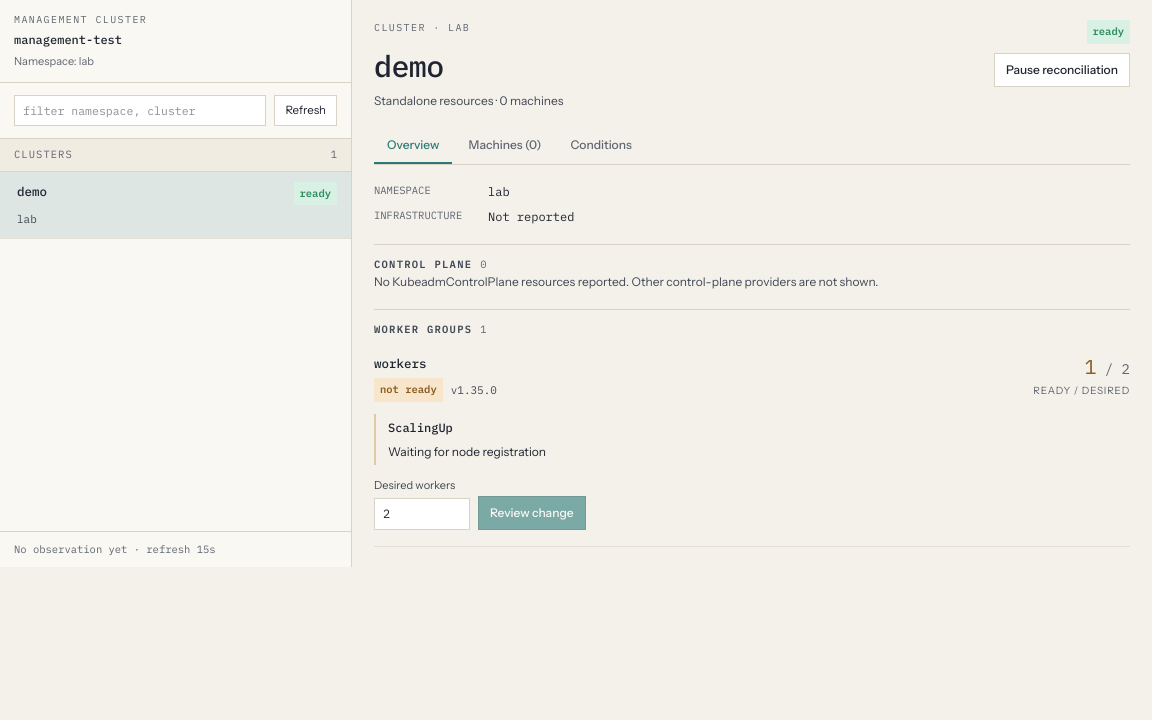
Cluster API workspace › keeps failures in the confirmation dialog for review
The image size is (1152, 720).
Click the button "Pause reconciliation": (1062,70) [994,52,1130,86]
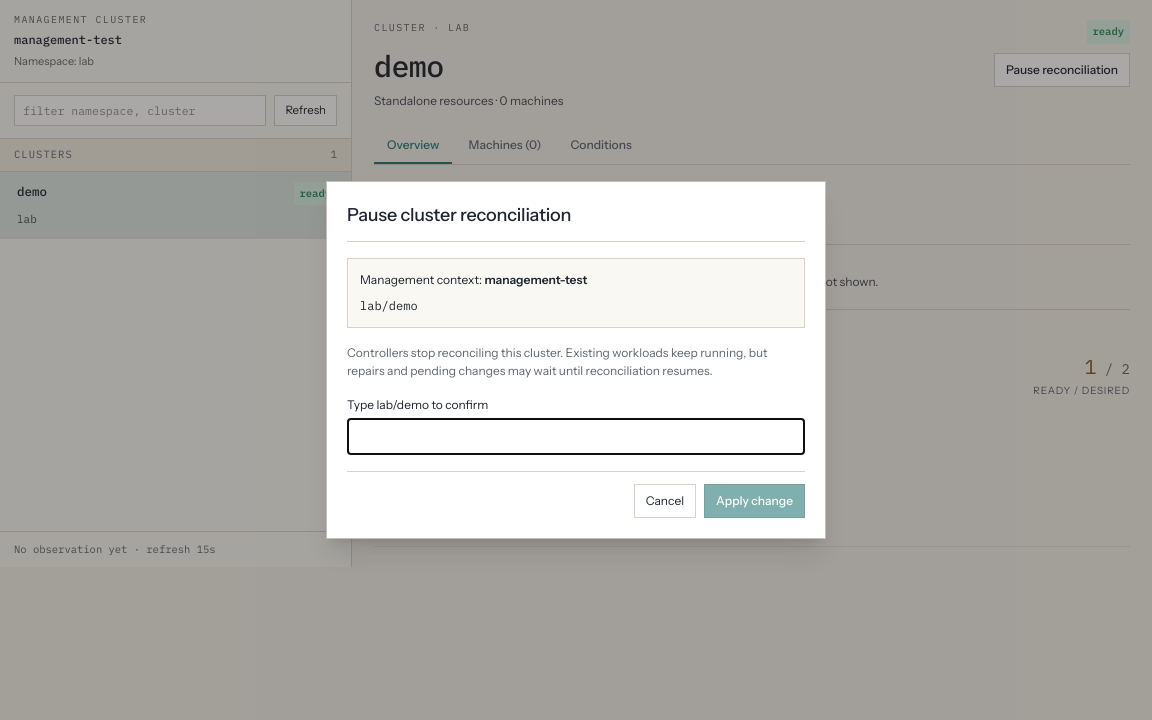
In the field named "Confirm resource name": (576,436) [347,418,805,455], type "lab/demo"
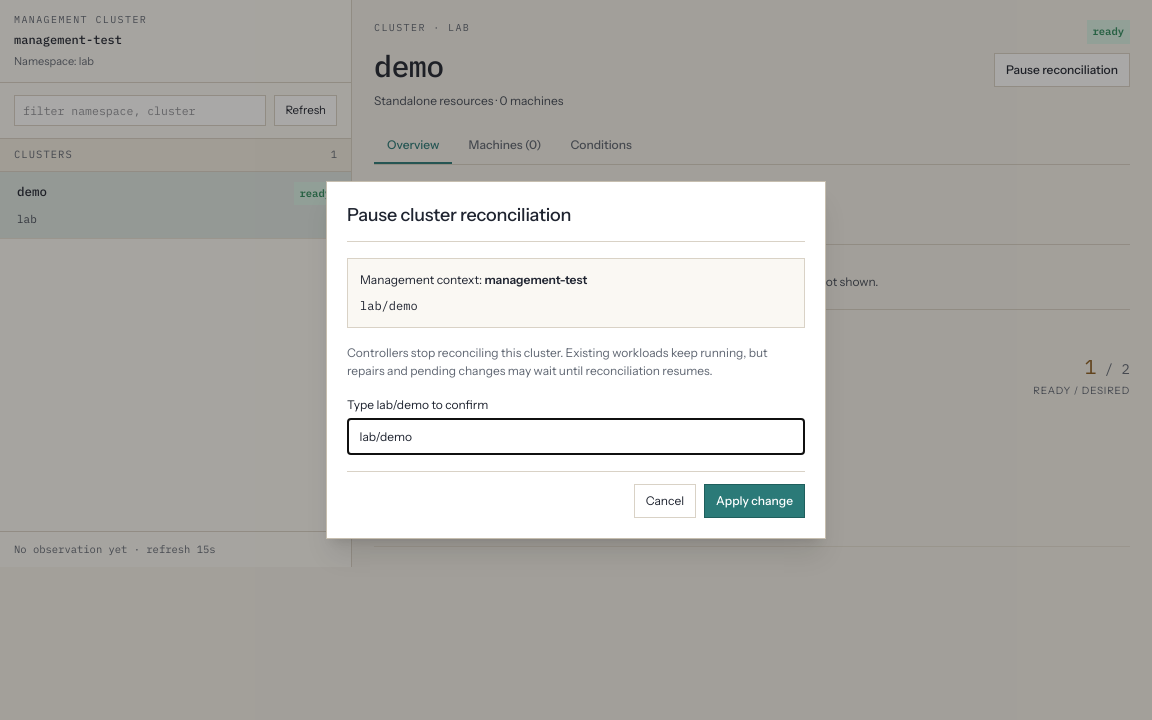
Click the button "Apply change": (755,501) [704,484,805,518]
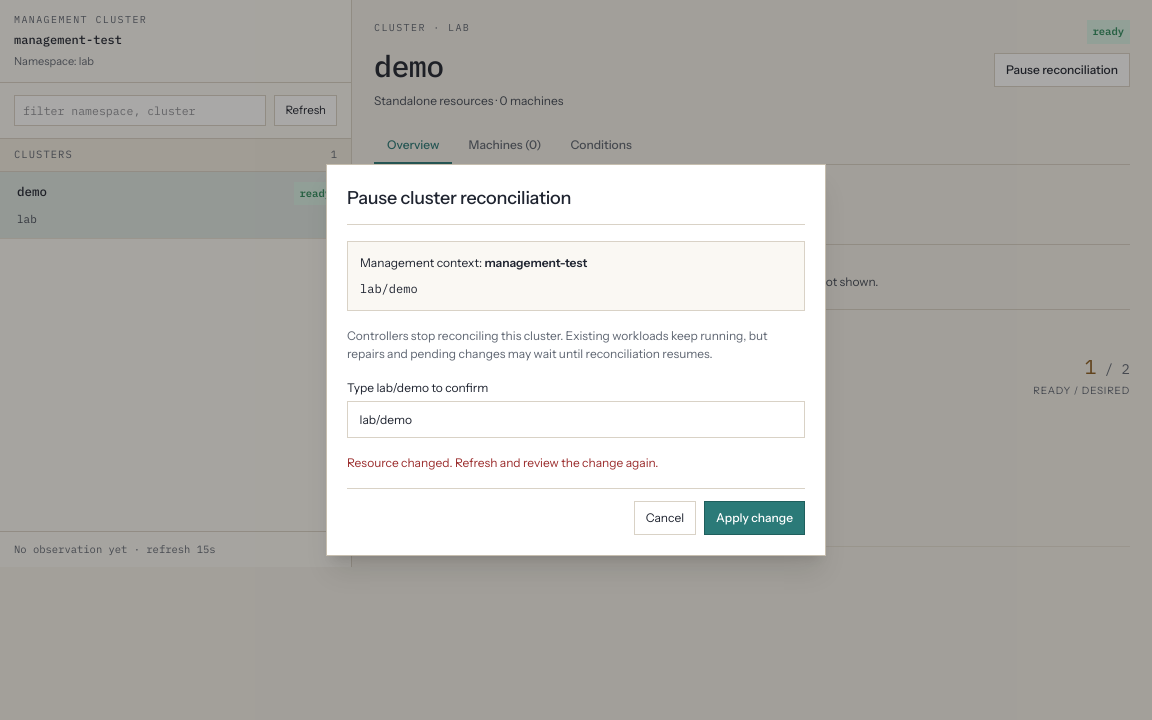
Now the dialog is shown
Now the message shows "Resource changed", box [347,455,658,470]
